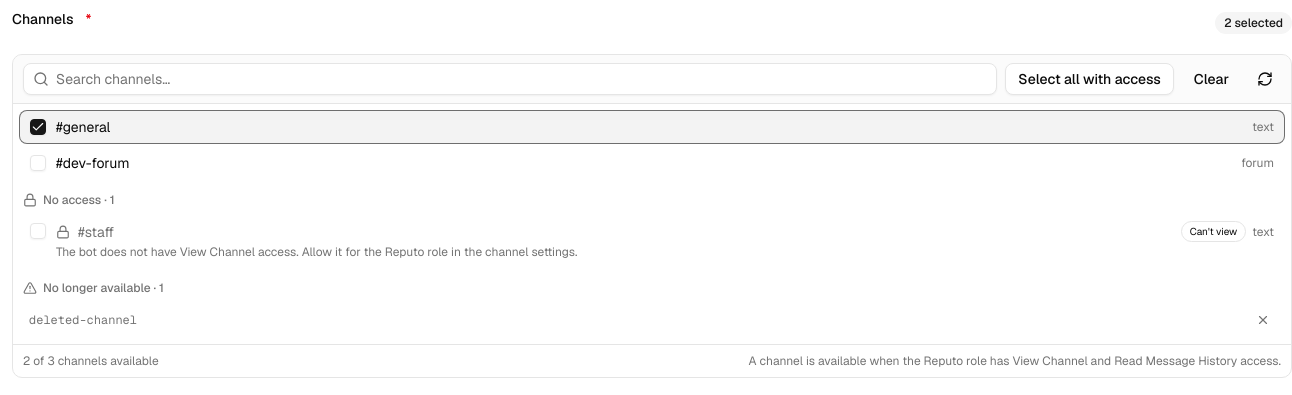
Test case: CommunityResourcesField › shows stored ids the connection no longer lists as removable entries
Expected: the text "No longer available · 1" is shown, [23,280,164,296]
Expected: the text "deleted-channel" is shown, [29,312,137,328]
Click the button named "Remove deleted-channel": (1263,320) [1251,308,1275,332]
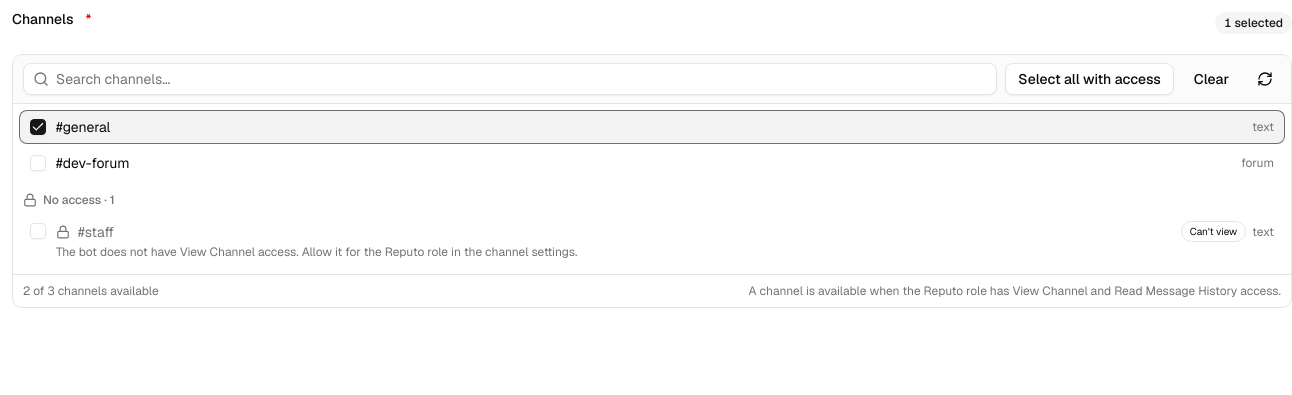
Result: the text "deleted-channel" is gone
Result: the text "1 selected" is shown at [1215,12,1291,34]
